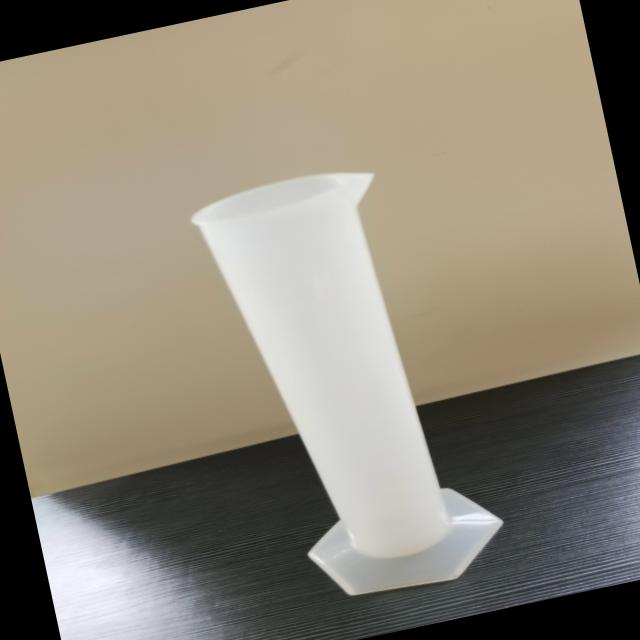graduated_cylinder: (175, 140, 530, 625)
